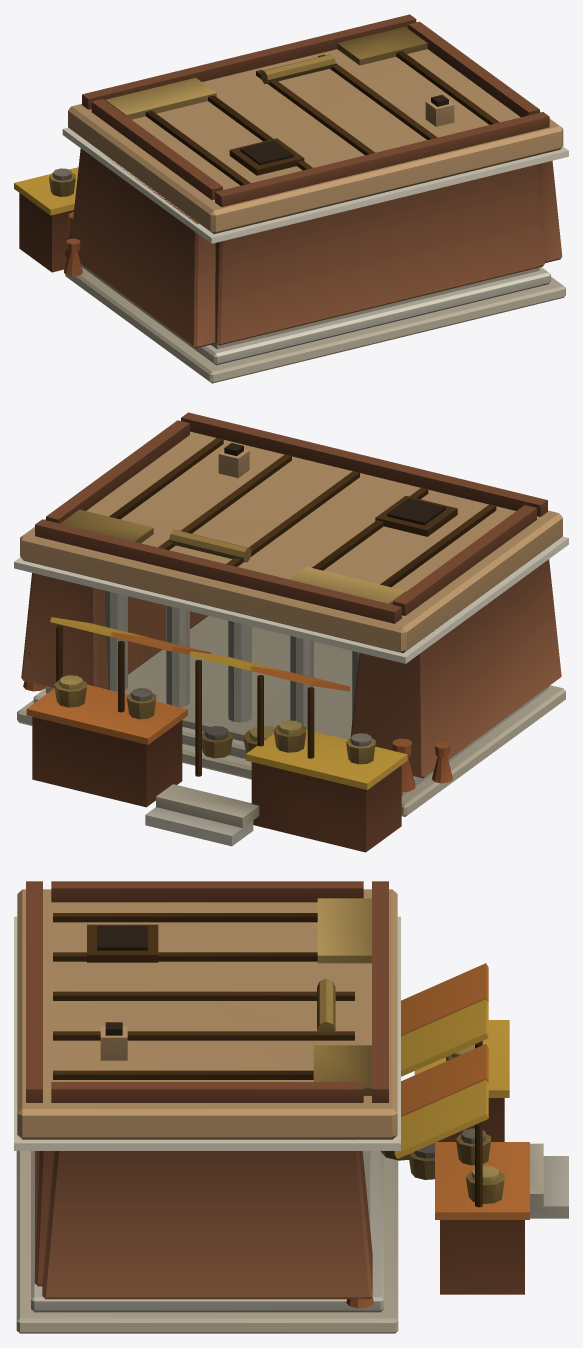
The model's file is market.glb.
The picture shows the model from 3 angles, top to bottom: view 1: azimuth 30°, elevation 25°; view 2: azimuth 150°, elevation 25°; view 3: azimuth 270°, elevation 25°; orthographic projection. The views are drawn at different scales.
Parts seen in each view (by area): view 1: market_mud_terra, market_mud_tan, market_mud_dark, market_stone_white, market_stone_pale, market_wood_dark, market_thatch_dark, market_thatch_mat, market_cloth_yellow, market_door_dark, market_pottery; view 2: market_mud_tan, market_mud_dark, market_mud_terra, market_stone_pale, market_stone_white, market_wood_dark, market_cloth_orange, market_thatch_dark, market_cloth_yellow, market_thatch_mat, market_pottery, market_door_dark (+2 smaller); view 3: market_mud_tan, market_mud_terra, market_mud_dark, market_stone_white, market_wood_dark, market_stone_pale, market_cloth_orange, market_cloth_yellow, market_thatch_dark, market_thatch_mat, market_door_dark.
Part boxes in pixels (bbox=[...]): market_mud_terra: bbox=[71, 148, 562, 348]; market_mud_tan: bbox=[68, 22, 563, 233]; market_mud_dark: bbox=[19, 14, 549, 272]; market_stone_white: bbox=[62, 127, 568, 365]; market_stone_pale: bbox=[65, 267, 565, 383]; market_wood_dark: bbox=[145, 51, 499, 185]; market_thatch_dark: bbox=[49, 26, 427, 196]; market_thatch_mat: bbox=[105, 77, 216, 119]; market_cloth_yellow: bbox=[14, 167, 78, 215]; market_door_dark: bbox=[240, 94, 448, 165]; market_pottery: bbox=[64, 212, 82, 276]; market_mud_tan: bbox=[20, 420, 562, 653]; market_mud_dark: bbox=[32, 412, 547, 852]; market_mud_terra: bbox=[21, 559, 561, 778]; market_stone_pale: bbox=[17, 616, 565, 828]; market_stone_white: bbox=[14, 536, 568, 846]; market_wood_dark: bbox=[56, 438, 496, 776]; market_cloth_orange: bbox=[26, 632, 350, 744]; market_thatch_dark: bbox=[54, 509, 375, 764]; market_cloth_yellow: bbox=[50, 617, 407, 789]; market_thatch_mat: bbox=[290, 567, 405, 604]; market_pottery: bbox=[23, 652, 452, 792]; market_door_dark: bbox=[224, 443, 445, 525]; market_mud_tan: bbox=[17, 889, 397, 1139]; market_mud_terra: bbox=[34, 1139, 372, 1299]; market_mud_dark: bbox=[26, 881, 524, 1294]; market_stone_white: bbox=[14, 916, 568, 1312]; market_wood_dark: bbox=[53, 913, 482, 1207]; market_stone_pale: bbox=[16, 1143, 543, 1333]; market_cloth_orange: bbox=[401, 963, 529, 1219]; market_cloth_yellow: bbox=[394, 999, 509, 1159]; market_thatch_dark: bbox=[313, 978, 504, 1203]; market_thatch_mat: bbox=[317, 898, 371, 963]; market_door_dark: bbox=[97, 926, 147, 1035].
Size of the model in its own units: 3.39 by 1.64 by 3.27.
